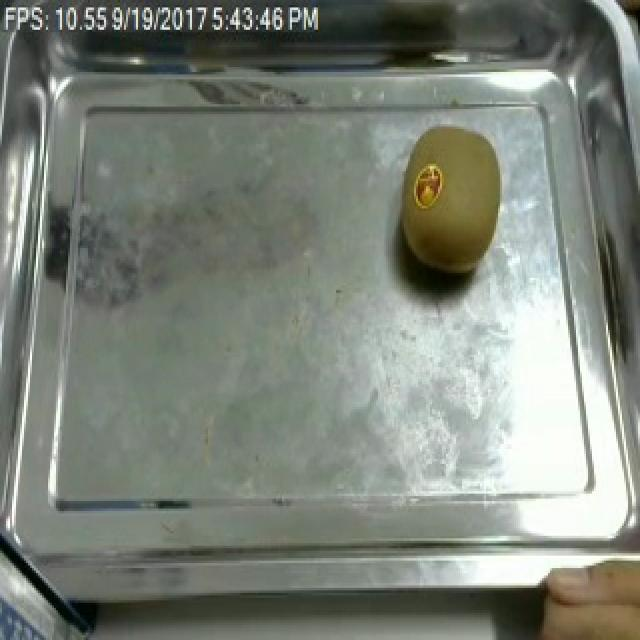Fruit: (392, 109, 514, 288), (520, 543, 640, 640)
